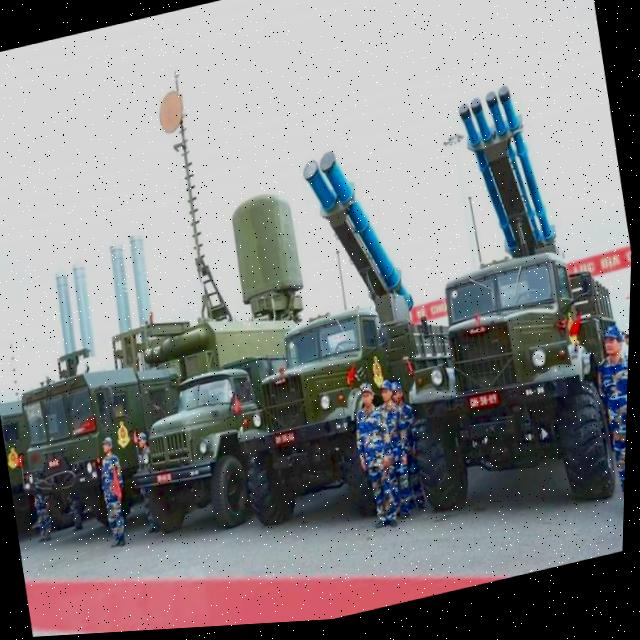car: (387, 237, 632, 549), (219, 293, 441, 535), (0, 335, 197, 543), (115, 359, 271, 551)
plate: (455, 381, 506, 419), (264, 418, 302, 452), (148, 463, 183, 492)
